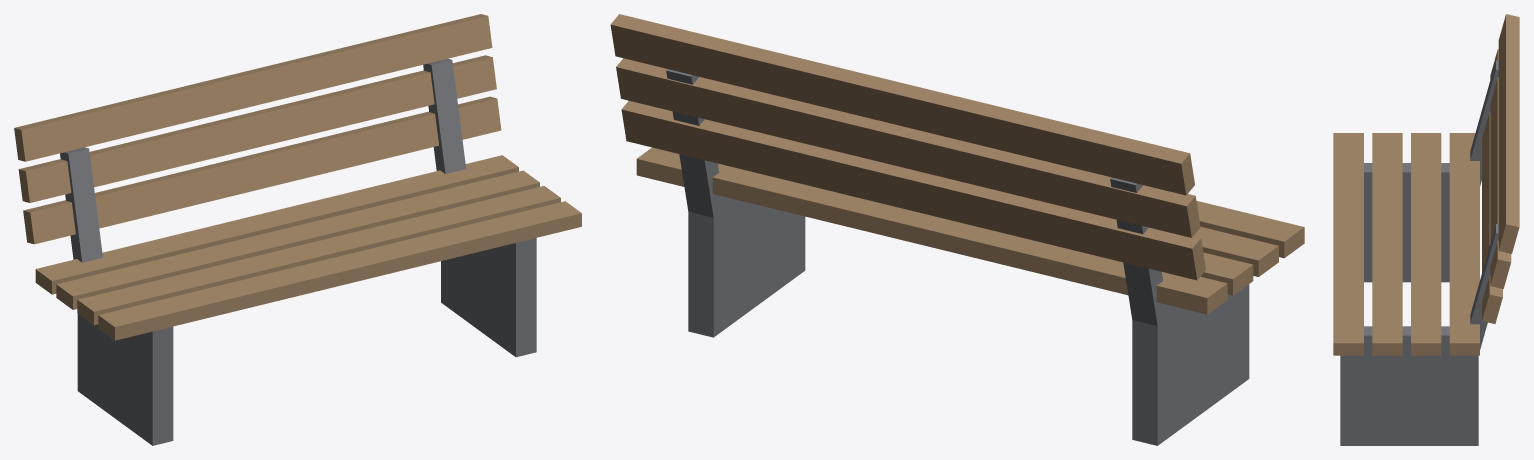
The model's file is Bank.glb.
The picture shows the model from 3 angles, left to right: view 1: azimuth 30°, elevation 25°; view 2: azimuth 150°, elevation 25°; view 3: azimuth 270°, elevation 25°; orthographic projection. The views are drawn at different scales.
Visible parts, largest first — view 1: Bank; view 2: Bank; view 3: Bank.
Part boxes in pixels (x1,y1,x2,y2): Bank: (14,14,581,445); Bank: (610,14,1304,445); Bank: (1333,14,1519,445).
Bounding box in the file's own units: 1.8 × 0.9595 × 0.6728.
